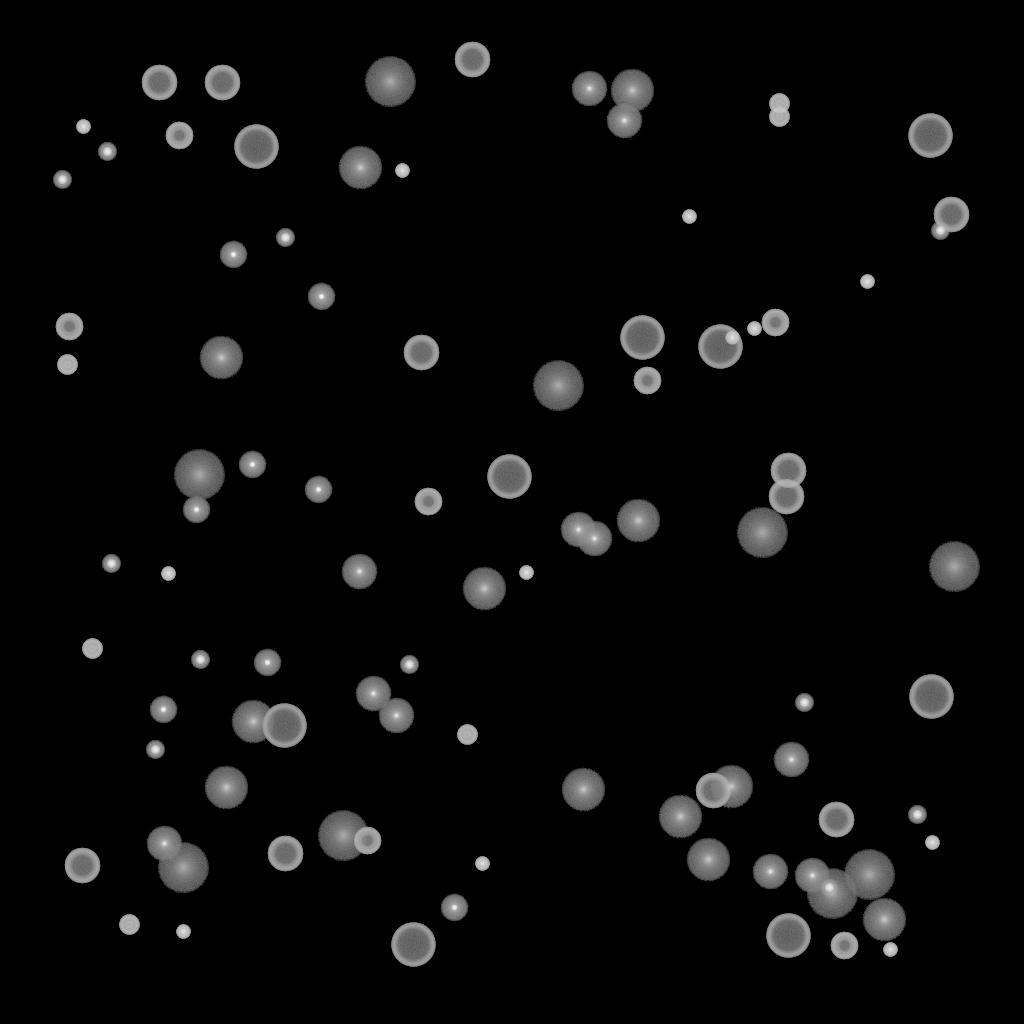depth:-10: (253, 649, 281, 677), (440, 894, 468, 922), (307, 283, 335, 311), (219, 241, 247, 269), (238, 451, 266, 479), (182, 496, 210, 524), (149, 696, 177, 724), (304, 476, 332, 504)
depth:-20: (191, 651, 209, 669), (146, 741, 164, 759), (820, 879, 838, 897), (795, 694, 813, 712), (931, 222, 949, 240), (98, 143, 116, 161), (276, 229, 294, 247), (400, 656, 418, 674), (908, 806, 926, 824), (102, 555, 120, 573), (53, 171, 71, 189)
depth:-30: (925, 836, 939, 850), (475, 857, 489, 871), (76, 120, 90, 134), (747, 322, 761, 336), (682, 210, 696, 224), (519, 566, 533, 580), (725, 331, 739, 345), (860, 275, 874, 289), (176, 925, 190, 939), (161, 567, 175, 581), (395, 164, 409, 178), (883, 943, 897, 957)
depth:-40: (769, 94, 789, 114), (82, 639, 102, 659), (457, 725, 477, 745), (57, 355, 77, 375), (769, 107, 789, 127), (119, 915, 139, 935)
depth:-50: (761, 309, 789, 337), (633, 367, 661, 395), (55, 313, 83, 341), (353, 827, 381, 855), (830, 932, 858, 960), (165, 122, 193, 150), (414, 488, 442, 516)
depth:-60: (695, 773, 731, 809), (141, 65, 177, 101), (403, 335, 439, 371), (768, 479, 804, 515), (933, 197, 969, 233), (204, 65, 240, 101), (454, 42, 490, 78), (267, 836, 303, 872), (770, 453, 806, 489), (818, 802, 854, 838), (64, 848, 100, 884)
depth:-70: (391, 923, 435, 967), (908, 114, 952, 158), (487, 455, 531, 499), (909, 675, 953, 719), (766, 914, 810, 958), (234, 125, 278, 169), (262, 704, 306, 748), (698, 325, 742, 369), (620, 316, 664, 360)
depth:0: (794, 858, 830, 894), (571, 71, 607, 107), (378, 698, 414, 734), (576, 521, 612, 557), (606, 103, 642, 139), (355, 676, 391, 712), (341, 554, 377, 590), (773, 742, 809, 778), (560, 512, 596, 548), (752, 854, 788, 890), (146, 826, 182, 862)
depth:10: (338, 146, 382, 190), (199, 336, 243, 380), (686, 838, 730, 882), (616, 499, 660, 543), (862, 898, 906, 942), (462, 567, 506, 611), (204, 766, 248, 810), (231, 700, 275, 744), (561, 768, 605, 812), (658, 795, 702, 839), (610, 69, 654, 113), (709, 765, 753, 809)
depth:20: (532, 361, 584, 411), (736, 508, 788, 558), (317, 811, 369, 861), (928, 542, 980, 592), (173, 450, 225, 500), (806, 869, 858, 919), (843, 850, 895, 900), (364, 57, 416, 107), (157, 843, 209, 893)
